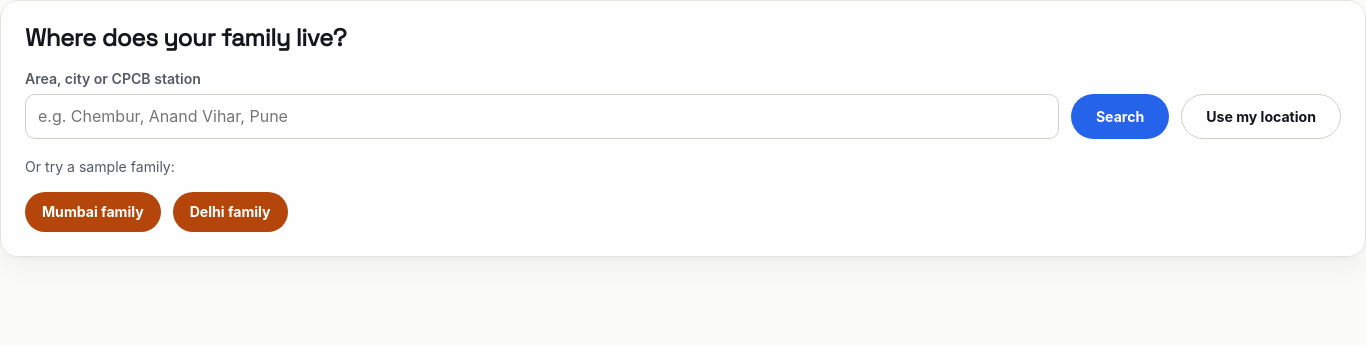
Test: PlacePicker › tells the user when location is off
This screenshot has width=1366, height=345.
Click the button "Use my location" at (1261, 116), box [1181, 94, 1341, 138]
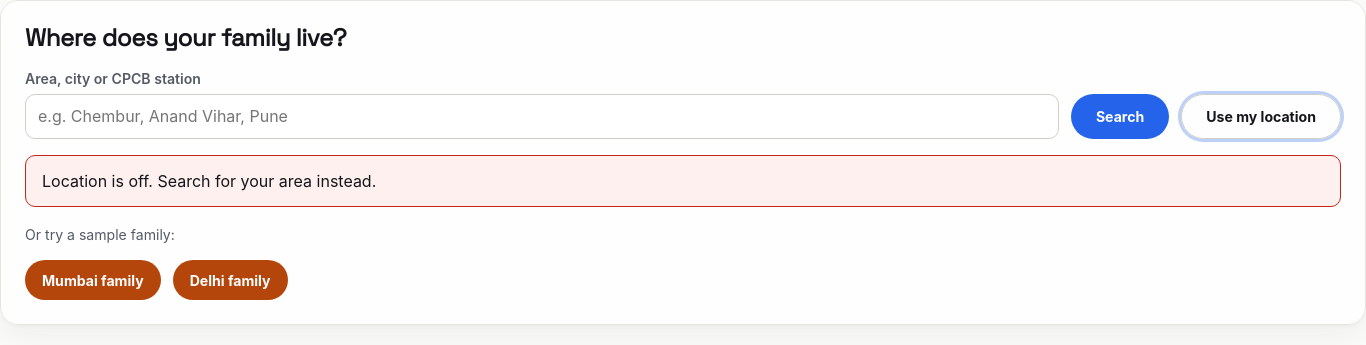
Now the message shows "Location is off", box [42, 170, 376, 190]
